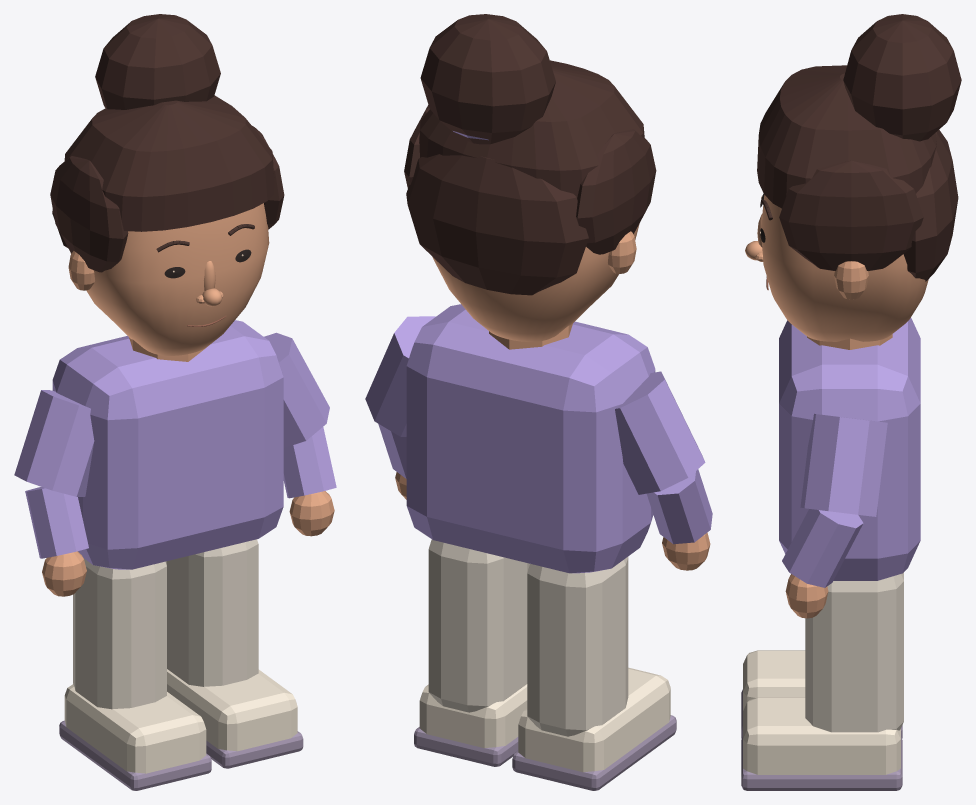
Rendered from companion-avatar.glb.
3 views of the same model, side by side, from view 1: azimuth 30°, elevation 25°; view 2: azimuth 150°, elevation 25°; view 3: azimuth 270°, elevation 25° (orthographic). The views are drawn at different scales.
Visible parts, largest first — view 1: HeadMesh.001, BodyMesh.001, LegLMesh.001, LegRMesh.001, ArmLMesh.001, ArmRMesh.001; view 2: HeadMesh.001, BodyMesh.001, LegLMesh.001, LegRMesh.001, ArmLMesh.001, ArmRMesh.001; view 3: HeadMesh.001, LegRMesh.001, BodyMesh.001, ArmRMesh.001, LegLMesh.001.
Boxes of the visible parts, x1=… form: HeadMesh.001: x1=50, y1=14, x2=284, y2=355; BodyMesh.001: x1=52, y1=320, x2=283, y2=569; LegLMesh.001: x1=59, y1=558, x2=211, y2=790; LegRMesh.001: x1=165, y1=539, x2=303, y2=768; ArmLMesh.001: x1=14, y1=390, x2=94, y2=596; ArmRMesh.001: x1=264, y1=332, x2=336, y2=536; HeadMesh.001: x1=404, y1=14, x2=656, y2=341; BodyMesh.001: x1=406, y1=304, x2=655, y2=573; LegLMesh.001: x1=512, y1=557, x2=676, y2=790; LegRMesh.001: x1=414, y1=539, x2=529, y2=766; ArmLMesh.001: x1=615, y1=371, x2=712, y2=570; ArmRMesh.001: x1=365, y1=316, x2=435, y2=499; HeadMesh.001: x1=745, y1=14, x2=961, y2=341; LegRMesh.001: x1=741, y1=572, x2=903, y2=790; BodyMesh.001: x1=779, y1=318, x2=920, y2=580; ArmRMesh.001: x1=782, y1=413, x2=887, y2=618; LegLMesh.001: x1=741, y1=650, x2=902, y2=738.
Bounding box in the file's own units: 1.13 × 2.47 × 0.67.
